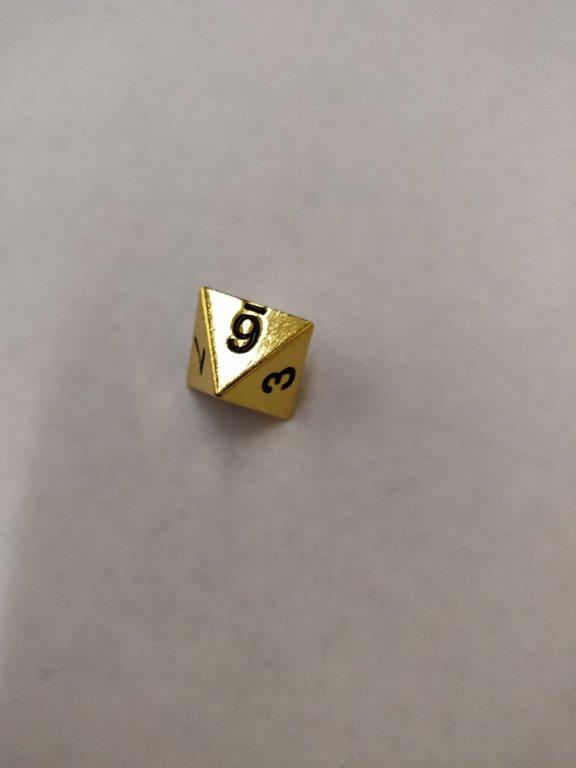d8-6: (176, 286, 317, 426)
